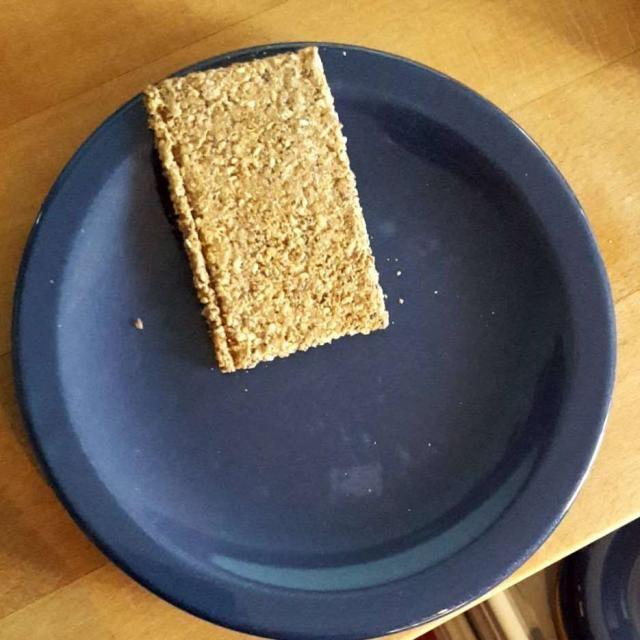rusk-wholemeal: (150, 62, 377, 367)
